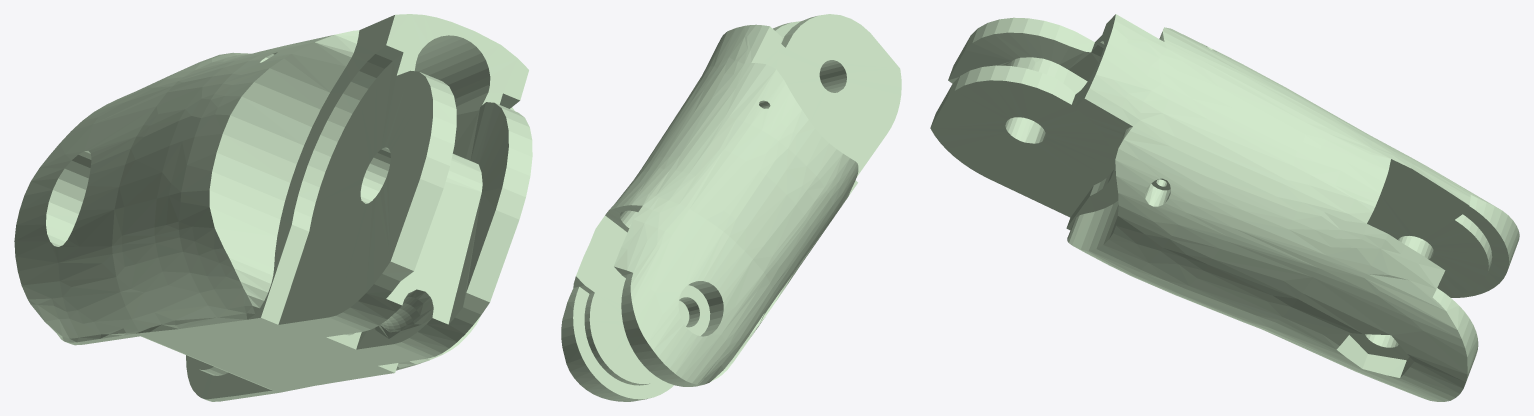
Rendered from i02_leftHand_indexPhal_visual.obj.balanced.glb.
The picture shows the model from 3 angles, left to right: view 1: azimuth 30°, elevation 25°; view 2: azimuth 150°, elevation 25°; view 3: azimuth 270°, elevation 25°; orthographic projection. The views are drawn at different scales.
Bounding box in the file's own units: 0.2048 × 0.3471 × 0.4992.
